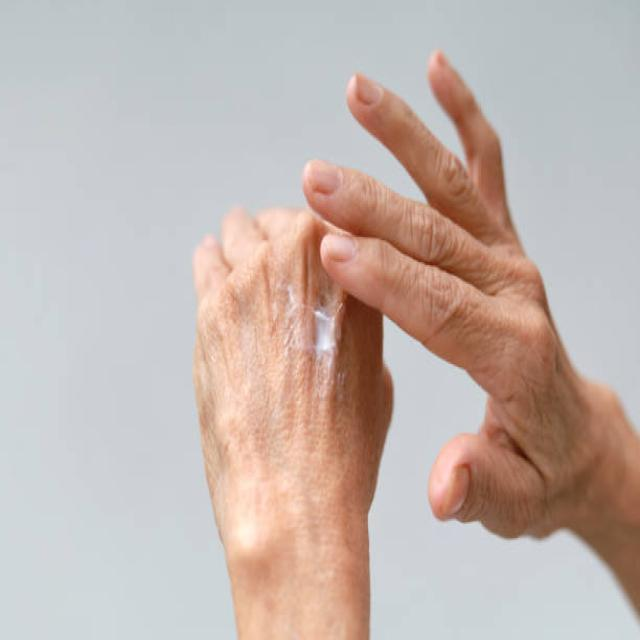dry: (191, 284, 314, 604)
